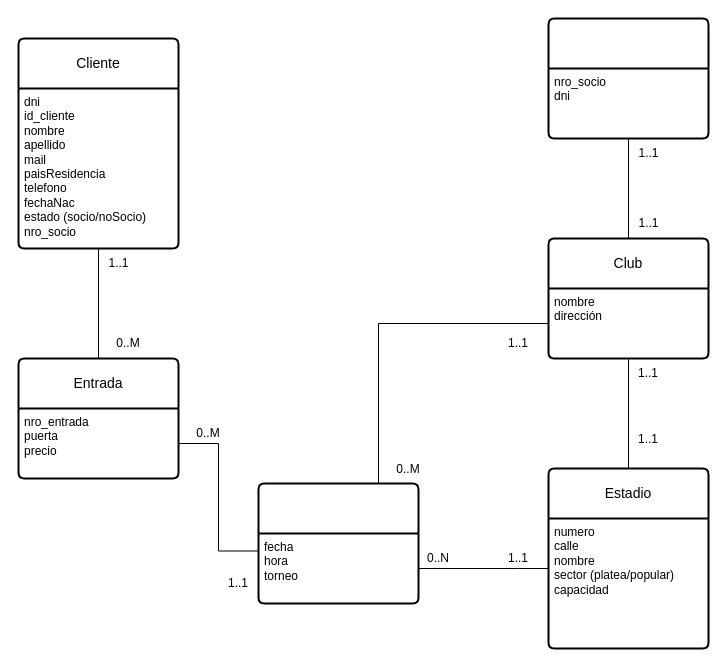
The diagram is 726 pixels wide and 666 high, and some of its shapes have lost their labels. Here are the shapes that lost their labels. From the top down, the box of each, then its label:
(547, 17, 709, 139): Lista_Socios
(257, 482, 419, 604): Evento
